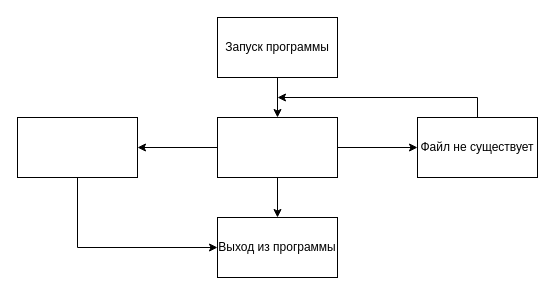
Some shapes in this 555 by 295 pixel diagram are drawn without their labels. Each missing label, with the centre of its shape:
"Ввод имени HTML файла" belongs at (x=277, y=147).
"Вывод AST" belongs at (x=77, y=147).
